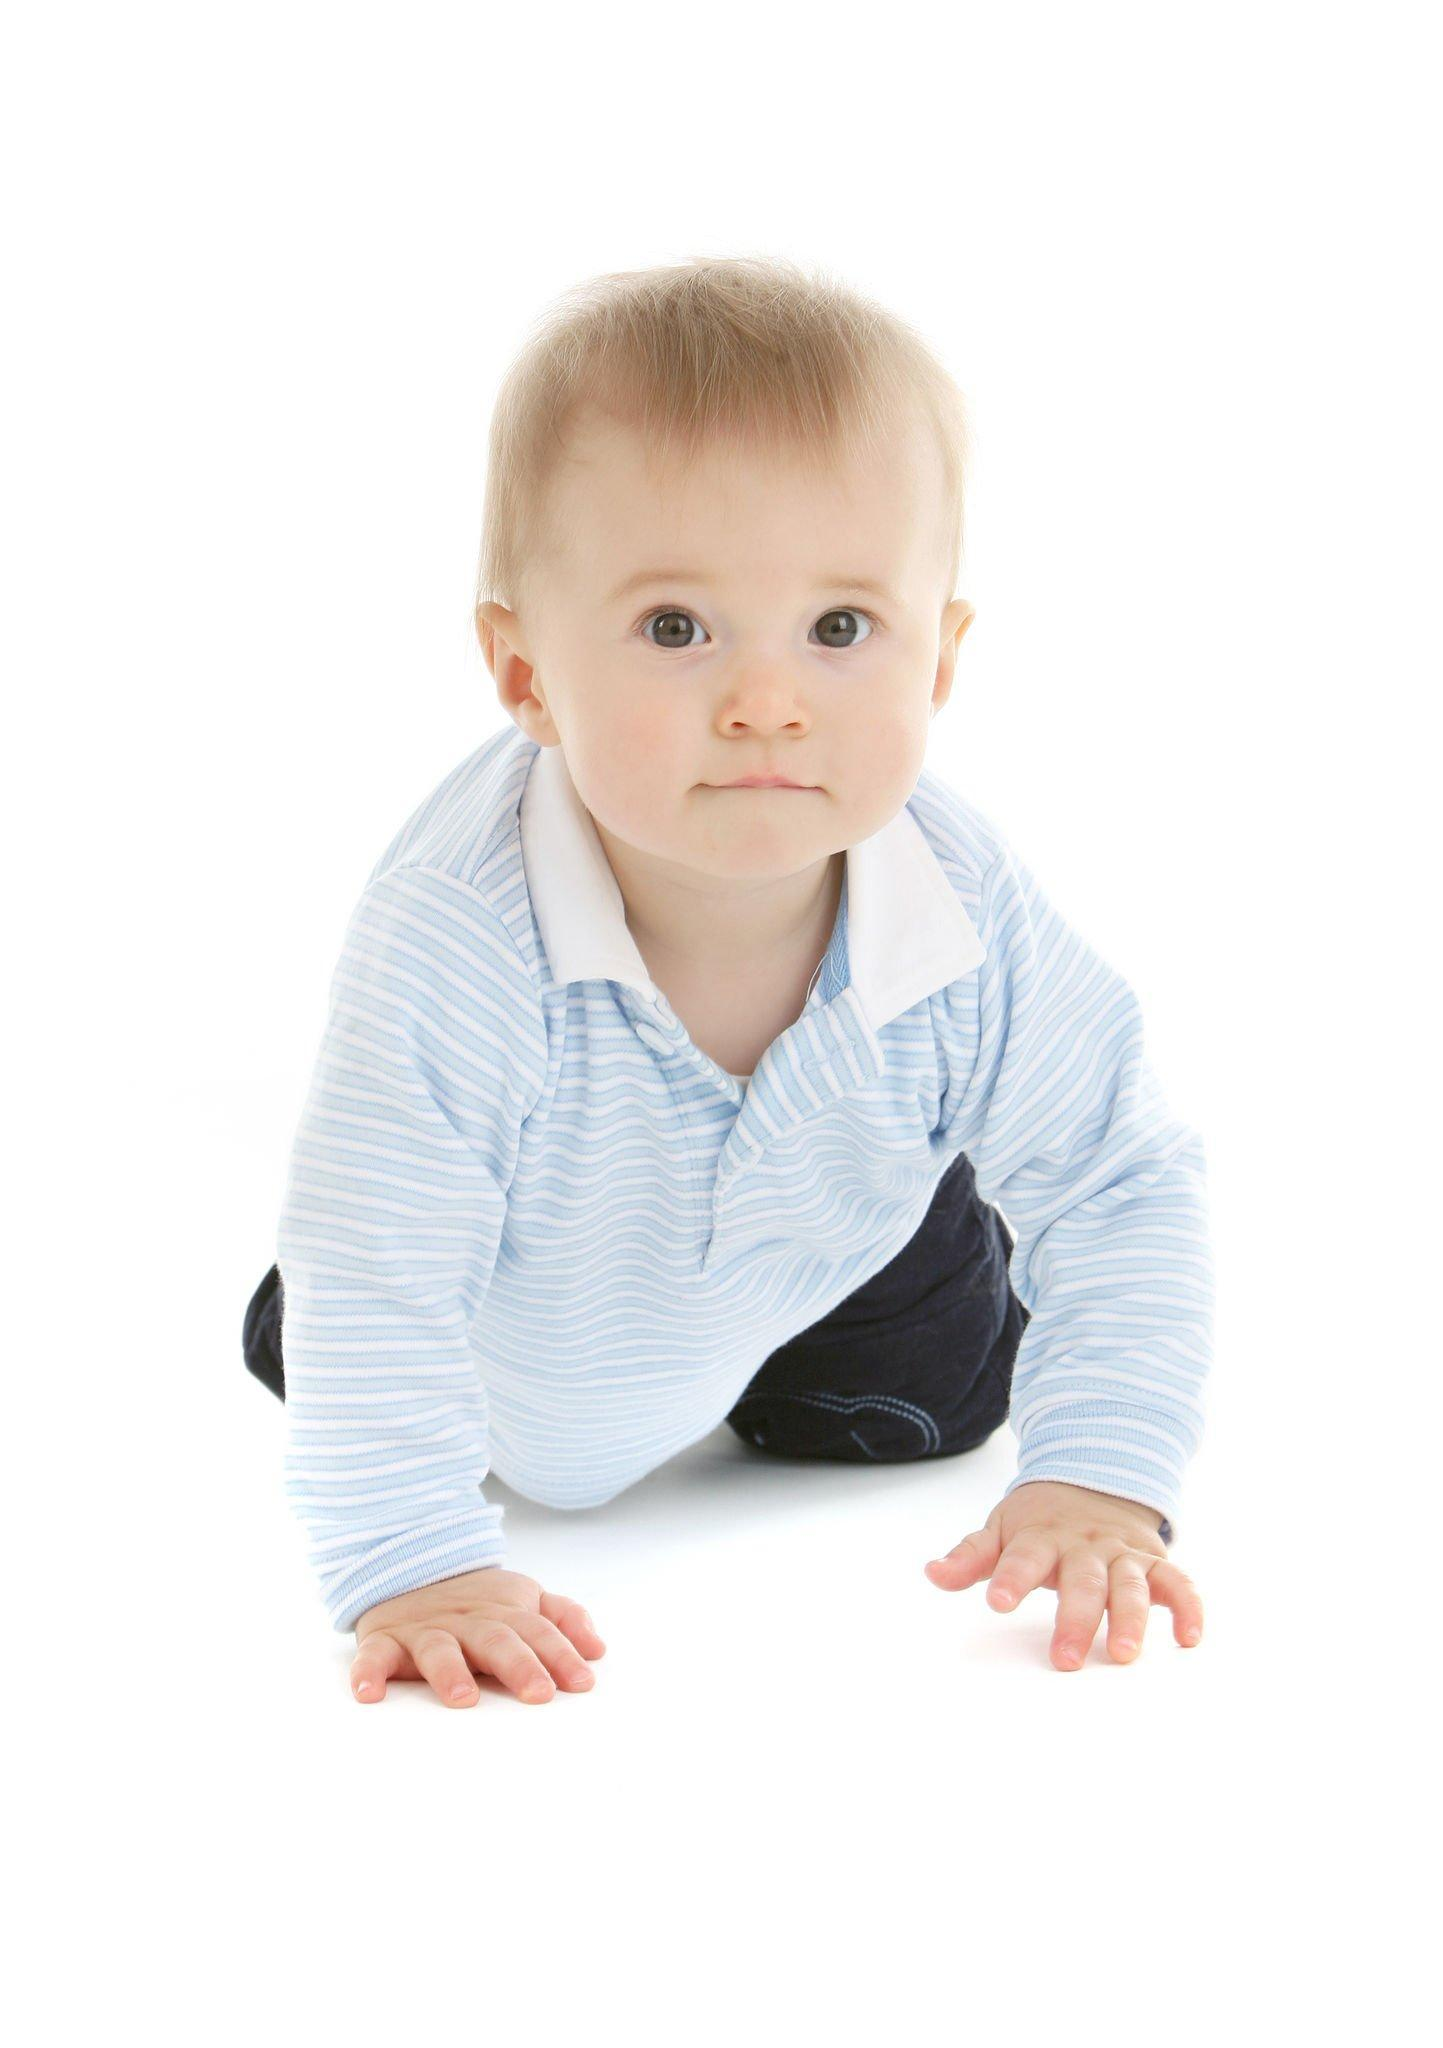Healthy: (526, 312, 973, 929)
